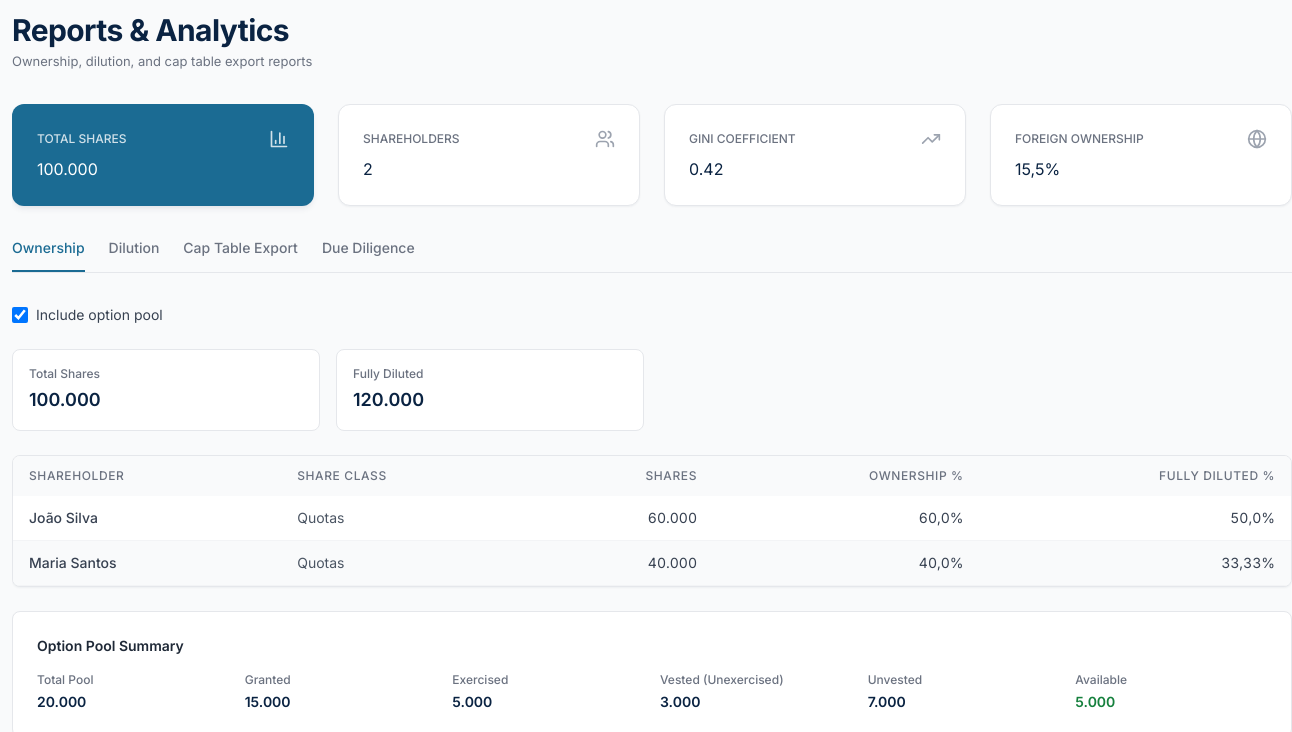
ReportsPage › Dilution Tab › renders dilution data table
The image size is (1292, 732).
What coordinates should you click on to do the following:
click the button "Dilution"
I would click on:
 (134, 254)
Its box is [108, 238, 159, 272].
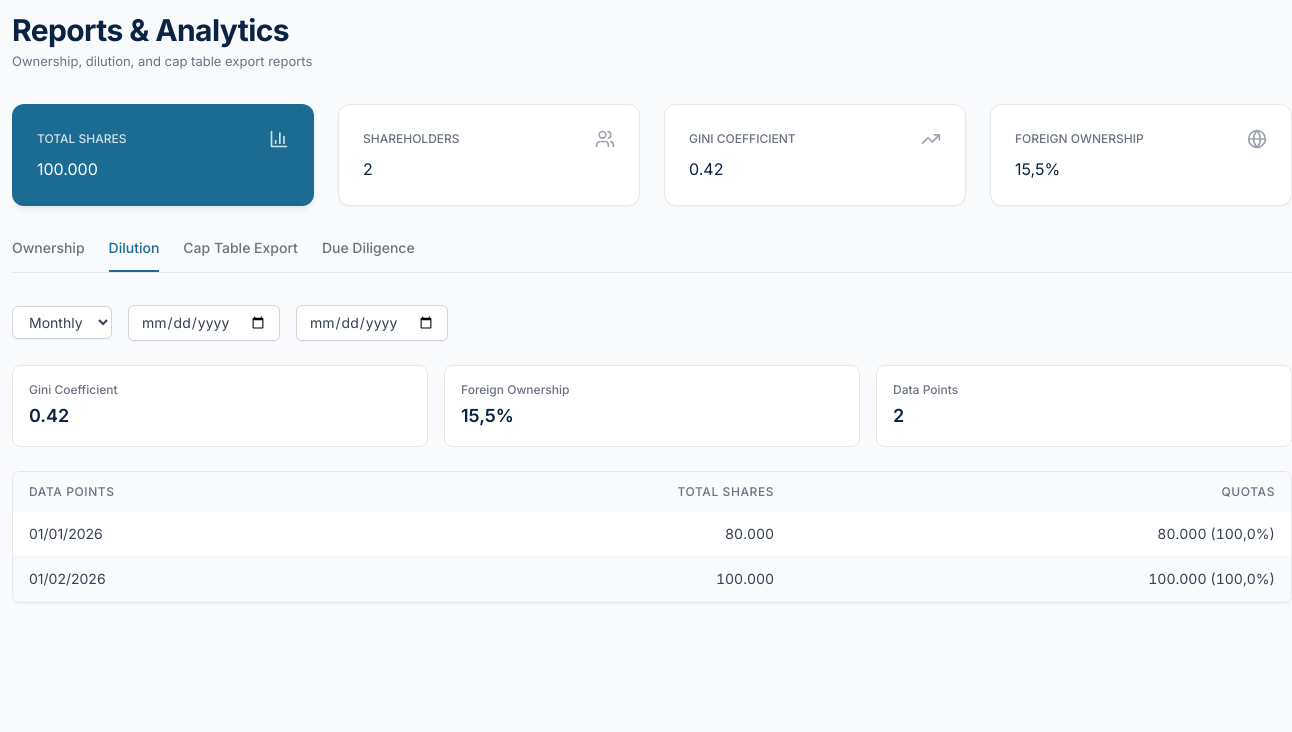
Expected: the text "80.000" is shown, [384, 512, 790, 556]
